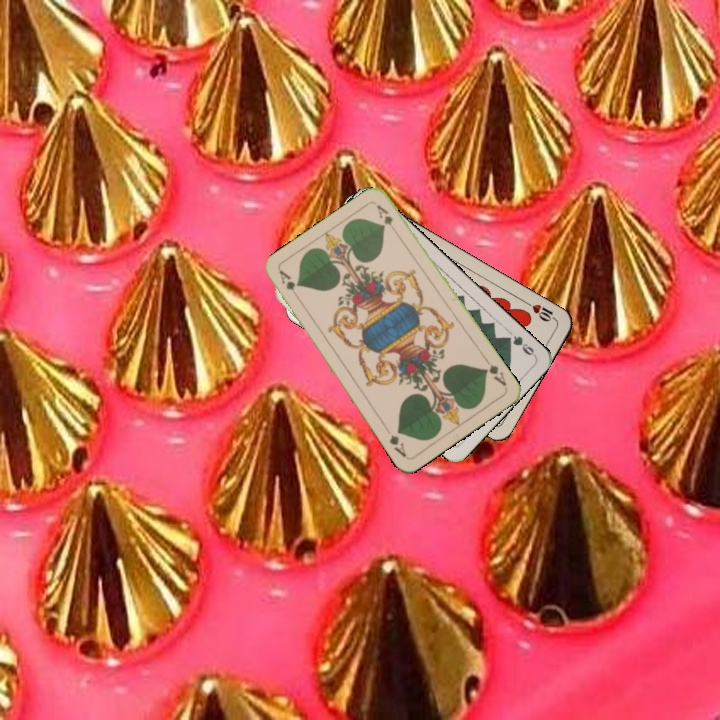G9: (501, 331, 538, 359)
GA: (275, 266, 302, 303), (480, 354, 509, 388)
H10: (522, 297, 559, 324)
